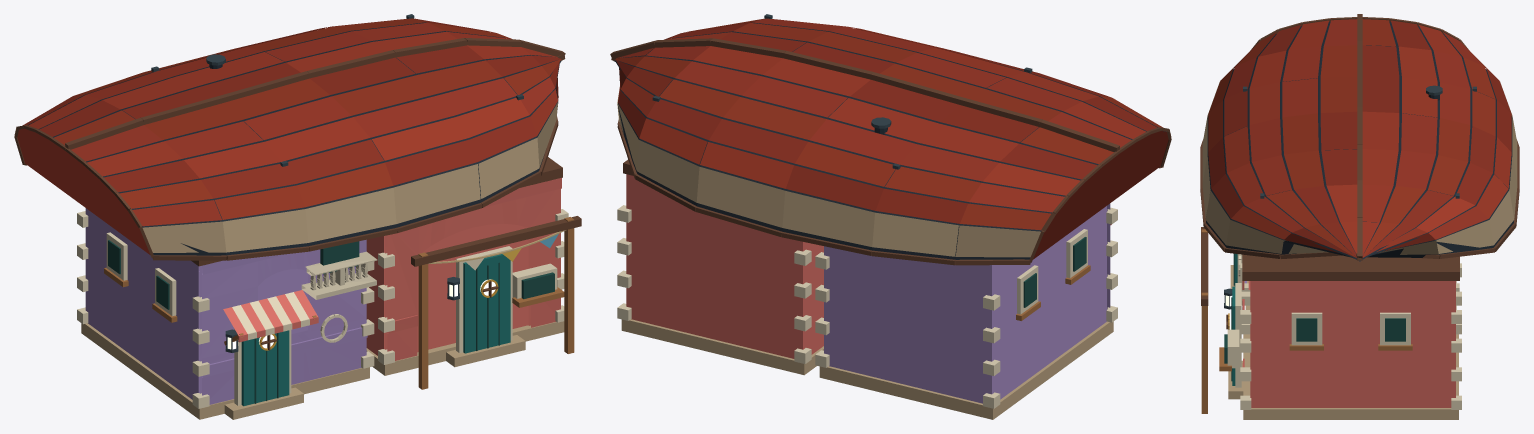
The model's file is trawler-workshops.glb.
The picture shows the model from 3 angles, left to right: view 1: azimuth 30°, elevation 25°; view 2: azimuth 150°, elevation 25°; view 3: azimuth 270°, elevation 25°; orthographic projection. The views are drawn at different scales.
Visible parts, largest first — view 1: trawler-workshops; view 2: trawler-workshops; view 3: trawler-workshops.
Boxes of the visible parts, x1,y1,x2,y2 form: trawler-workshops: (14, 14, 581, 419); trawler-workshops: (610, 14, 1171, 419); trawler-workshops: (1200, 14, 1519, 419).
Size of the model in its own units: 10.48 by 5.19 by 6.53.
